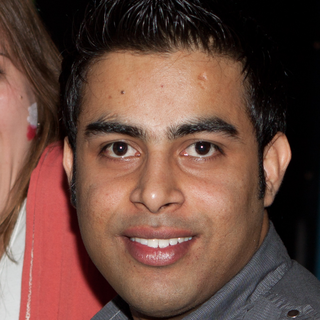eye: (180, 138, 226, 164), (95, 138, 141, 163)
